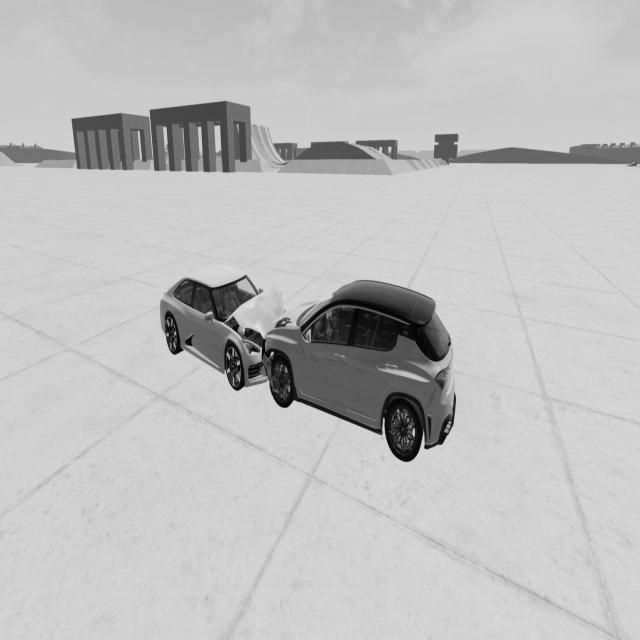accident: (159, 261, 457, 465)
